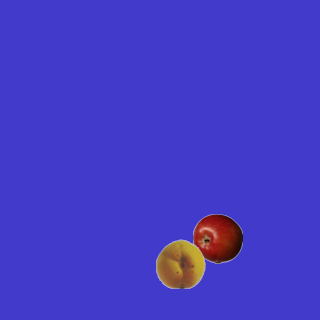Apple Braeburn: (192, 213, 242, 263)
Peach 2: (155, 238, 205, 288)
